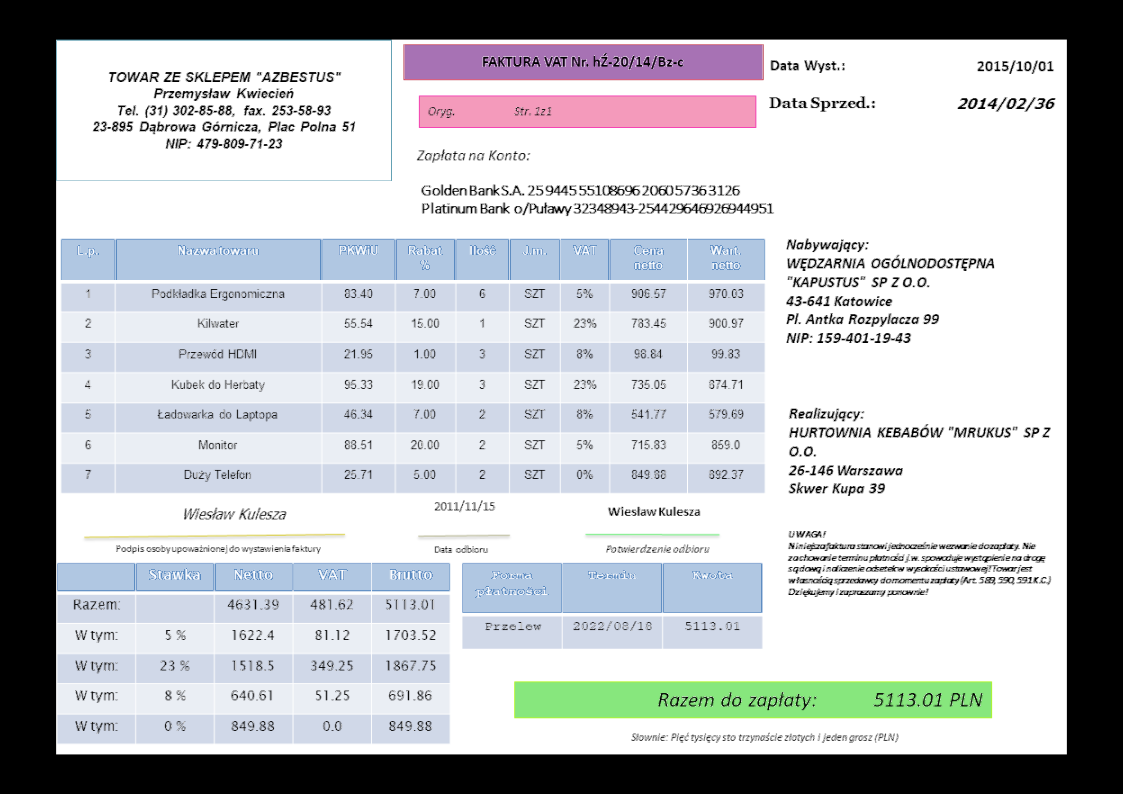Table: (60, 236, 764, 492), (57, 562, 450, 744), (460, 562, 764, 650)
TextBox: (787, 404, 1052, 497), (784, 237, 999, 348), (89, 69, 359, 153), (785, 528, 1054, 599), (420, 182, 777, 217), (655, 688, 985, 710), (481, 51, 686, 72), (629, 730, 900, 745), (114, 541, 323, 555), (413, 146, 532, 166), (180, 504, 289, 524), (768, 95, 879, 114), (956, 95, 1057, 115), (425, 104, 554, 118), (605, 502, 703, 519), (603, 542, 711, 556), (975, 58, 1055, 75), (769, 58, 847, 75), (431, 498, 497, 515), (431, 543, 488, 555)
